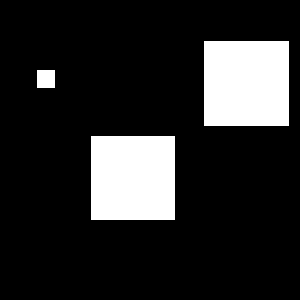circle: (204, 41, 289, 126), (91, 136, 175, 220), (37, 70, 55, 88)
